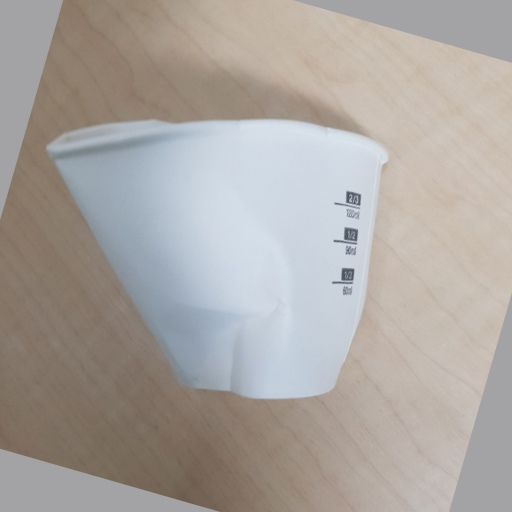Paper_1: (44, 115, 393, 401)
